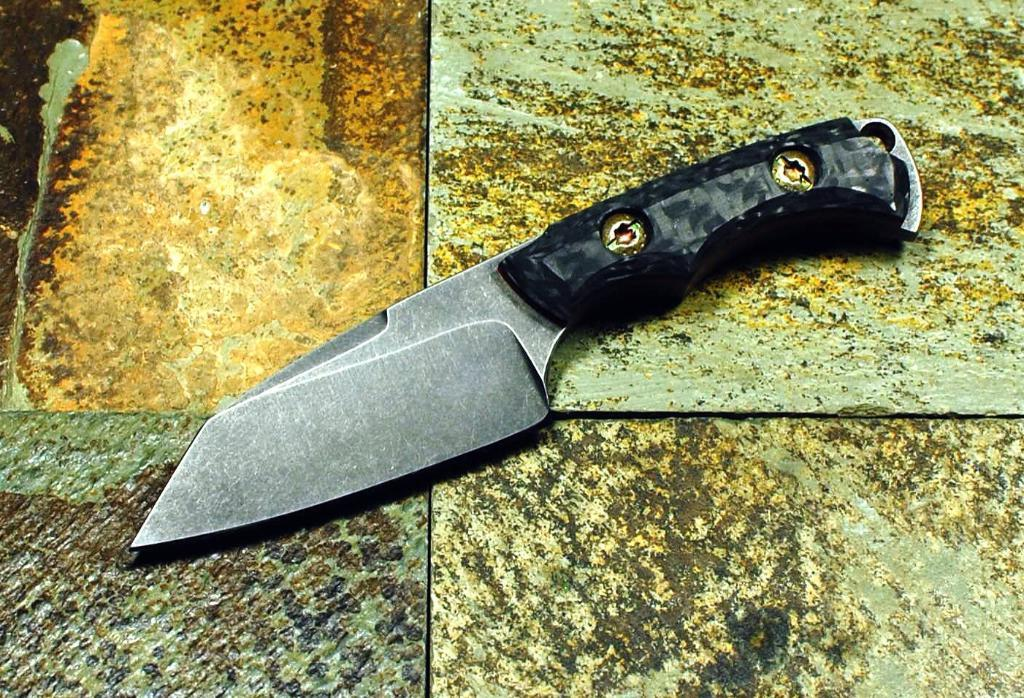Knife: (128, 111, 924, 553)
